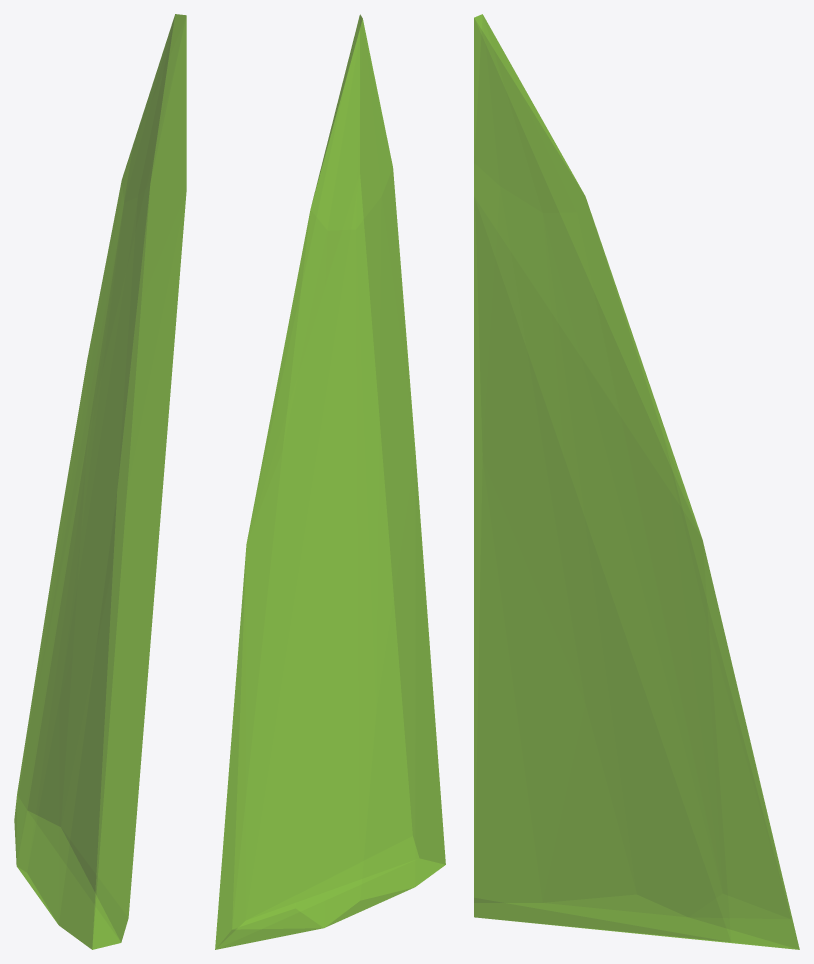
3 views of the same model, side by side, from view 1: azimuth 30°, elevation 25°; view 2: azimuth 150°, elevation 25°; view 3: azimuth 270°, elevation 25° (orthographic). The views are drawn at different scales.
Visible parts, largest first — view 1: Shape_IndexedFaceSet.054_Shape_IndexedFaceSet.9862; view 2: Shape_IndexedFaceSet.054_Shape_IndexedFaceSet.9862; view 3: Shape_IndexedFaceSet.054_Shape_IndexedFaceSet.9862.
Boxes of the visible parts, x1,y1,x2,y2 form: Shape_IndexedFaceSet.054_Shape_IndexedFaceSet.9862: [14, 14, 186, 949]; Shape_IndexedFaceSet.054_Shape_IndexedFaceSet.9862: [215, 14, 445, 949]; Shape_IndexedFaceSet.054_Shape_IndexedFaceSet.9862: [474, 14, 799, 949].
Size of the model in its own units: 0.084 by 0.6815 by 0.2158.
